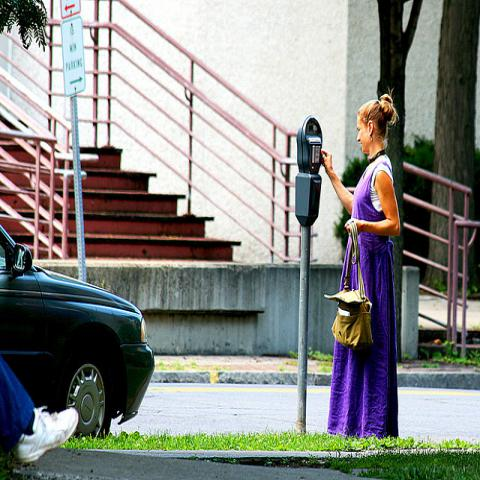car: (1, 228, 155, 435)
